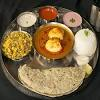curry: (40, 8, 60, 21)
egg: (47, 26, 66, 40), (45, 39, 64, 53)
rice: (74, 29, 97, 55)
roti: (17, 63, 91, 95)
